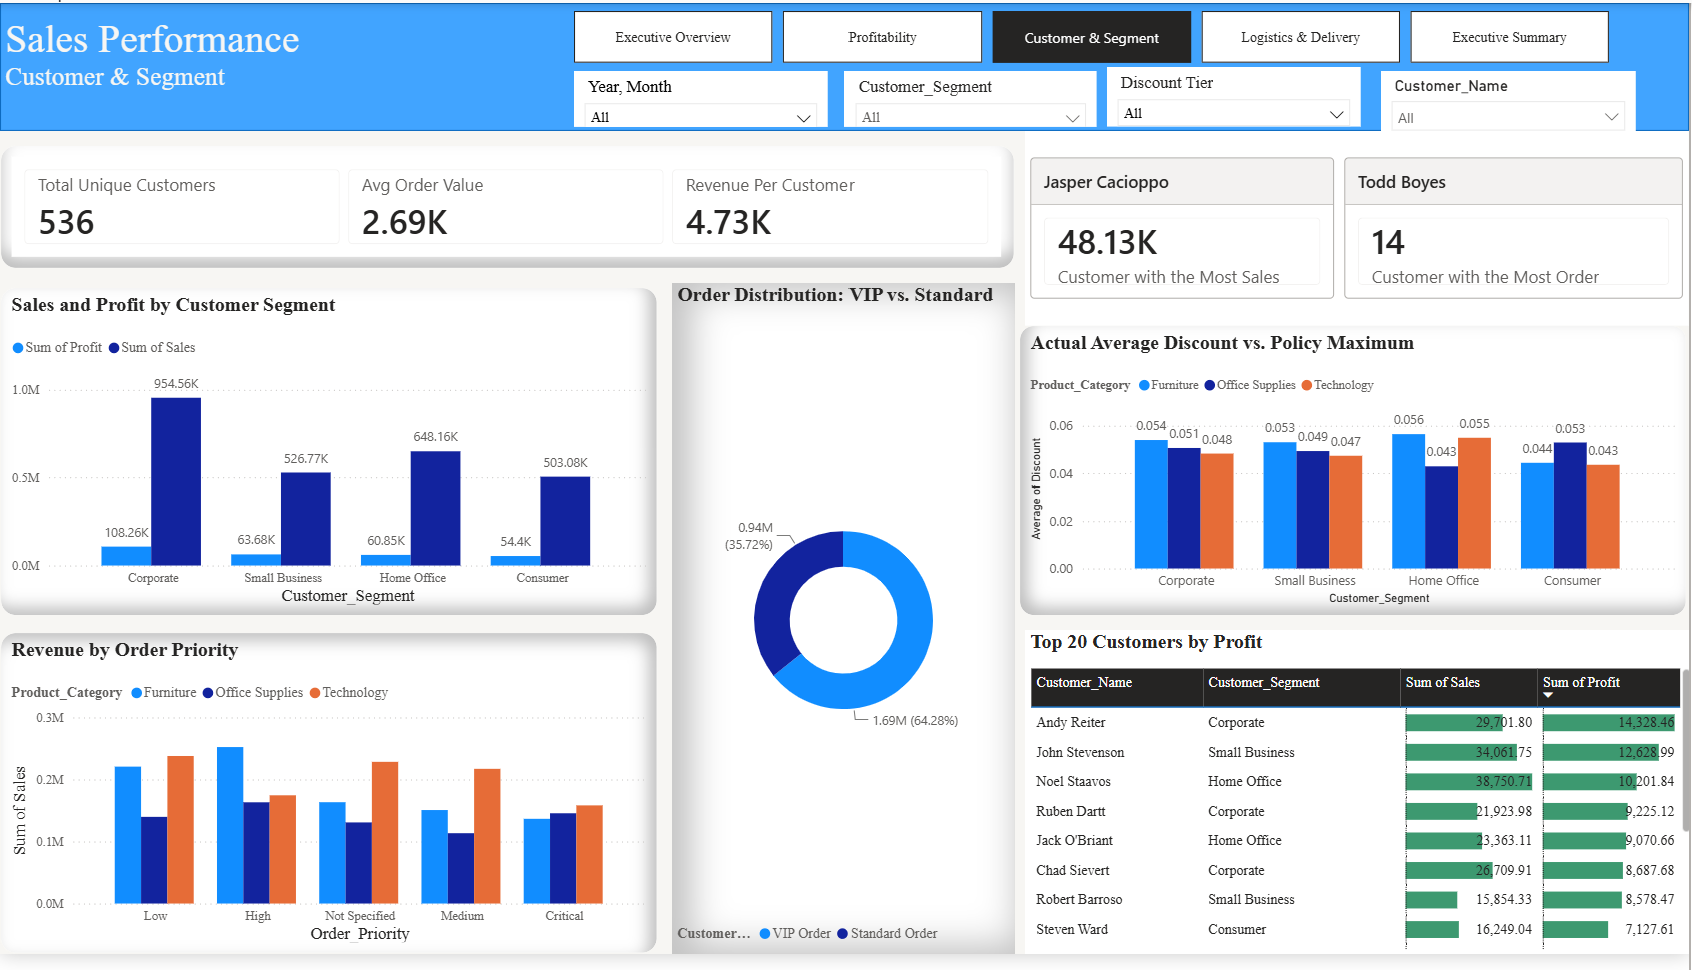

The page's visual inventory and layout, read from the dashboard file:
{"tool":"powerbi","page":{"name":"Customer & Segment","canvas":[1600,900],"ordinal":2},"visuals":[{"type":"textbox","box":[106.2,26.5,439.8,64.5],"z":0},{"type":"cardVisual","fields":{"Data":["Working Sheet.Total Unique Customers","Working Sheet.Avg Order Value 1","Working Sheet.Revenue Per Customer"]},"box":[0,134.6,961.1,117.5],"z":1000},{"type":"clusteredColumnChart","title":"Sales and Profit by Customer Segment","fields":{"Category":["Working Sheet.Customer_Segment"],"Y":["Sum(Working Sheet.Profit)","Sum(Working Sheet.Sales)"]},"box":[0,269.2,623.7,310.9],"z":2000},{"type":"tableEx","title":"Top 20 Customers by Profit","fields":{"Values":["Working Sheet.Customer_Name","Working Sheet.Customer_Segment","Sum(Working Sheet.Sales)","Sum(Working Sheet.Profit)"]},"box":[970.4,594.1,636.7,307.7],"z":3000},{"type":"lineClusteredColumnComboChart","title":"Actual Discount vs Max Allowed, by Segment.","fields":{"Category":["Working Sheet.Customer_Segment"],"Series":["Working Sheet.Product_Category"],"Y":["Avg(Working Sheet.Discount)"],"Y2":["Avg(Working Sheet.Max Discount Allowed)"]},"box":[965.7,305.3,633.2,274.9],"z":4000},{"type":"clusteredColumnChart","title":"Revenue by Order Priority","fields":{"Category":["Working Sheet.Order_Priority"],"Series":["Working Sheet.Product_Category"],"Y":["Sum(Working Sheet.Sales)"]},"box":[0,595.3,623.7,305.2],"z":5000},{"type":"shape","box":[0,0,1600,121.3],"z":6000},{"type":"textbox","box":[0,7.1,480.5,108.9],"z":7000},{"type":"pageNavigator","box":[543.8,7.8,982,49.3],"z":8000},{"type":"slicer","fields":{"Values":["Working Sheet.Order_Date.Variation.Date Hierarchy.Year"]},"box":[544.4,63.9,240.6,52.8],"z":9000},{"type":"slicer","fields":{"Values":["Working Sheet.Customer_Segment"]},"box":[800,63.9,238.6,52.8],"z":10000},{"type":"donutChart","title":"Order Distribution: VIP vs. Standard","fields":{"Category":["Working Sheet.Customer Value"],"Y":["Sum(Working Sheet.Sales)"]},"box":[637.2,266.2,324.4,633.8],"z":11000},{"type":"cardVisual","fields":{"Data":["Sum(Working Sheet.Sales)"],"Rows":["Working Sheet.Customer_Name"]},"box":[970.4,120.7,298.2,184.6],"z":12000},{"type":"slicer","fields":{"Values":["Working Sheet.Discount Tier "]},"box":[1048.5,61.5,240.6,56.7],"z":13000},{"type":"slicer","fields":{"Values":["Working Sheet.Customer_Name"]},"box":[1308.9,63.9,241.4,56.8],"z":14000},{"type":"cardVisual","fields":{"Data":["Count(Working Sheet.Order_ID)"],"Rows":["Working Sheet.Customer_Name"]},"box":[1268.6,120.7,331.4,184.6],"z":15000}]}

Visuals, with their boxes in screenshot pixels (x1, y1, x2, y2), scaled from the page's 1600x900 canvas onto the 1692x970 screenshot:
textbox: region(112, 29, 577, 98)
cardVisual - Working Sheet.Total Unique Customers x Working Sheet.Avg Order Value 1: region(0, 145, 1016, 272)
"Sales and Profit by Customer Segment" clusteredColumnChart: region(0, 290, 660, 625)
"Top 20 Customers by Profit" tableEx: region(1026, 640, 1691, 969)
"Actual Discount vs Max Allowed, by Segment." lineClusteredColumnComboChart: region(1021, 329, 1691, 625)
"Revenue by Order Priority" clusteredColumnChart: region(0, 642, 660, 969)
shape: region(0, 0, 1691, 131)
textbox: region(0, 8, 508, 125)
pageNavigator: region(575, 8, 1614, 62)
slicer - Working Sheet.Order_Date.Variation.Date Hierarchy.Year: region(576, 69, 830, 126)
slicer - Working Sheet.Customer_Segment: region(846, 69, 1098, 126)
"Order Distribution: VIP vs. Standard" donutChart: region(674, 287, 1017, 969)
cardVisual - Sum(Working Sheet.Sales) x Working Sheet.Customer_Name: region(1026, 130, 1342, 329)
slicer - Working Sheet.Discount Tier : region(1109, 66, 1363, 127)
slicer - Working Sheet.Customer_Name: region(1384, 69, 1639, 130)
cardVisual - Count(Working Sheet.Order_ID) x Working Sheet.Customer_Name: region(1342, 130, 1691, 329)
